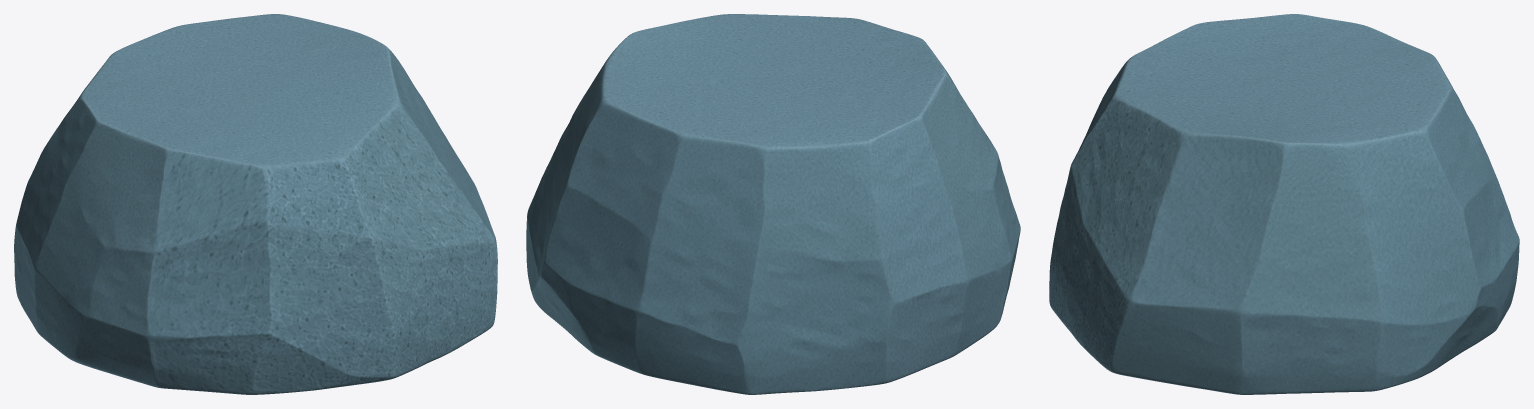
Rendered from Meshy_AI_stylized_stone_block_20261124_image-to-3d-texture.fbx.
The picture shows the model from 3 angles, left to right: view 1: azimuth 30°, elevation 25°; view 2: azimuth 150°, elevation 25°; view 3: azimuth 270°, elevation 25°; orthographic projection. The views are drawn at different scales.
Visible parts, largest first — view 1: Mesh_0; view 2: Mesh_0; view 3: Mesh_0.
Boxes of the visible parts, x1,y1,x2,y2 form: Mesh_0: (14, 14, 497, 394); Mesh_0: (526, 14, 1020, 394); Mesh_0: (1049, 14, 1519, 394).
Size of the model in its own units: 190 by 98.96 by 190.
1 material, 1 textured.
